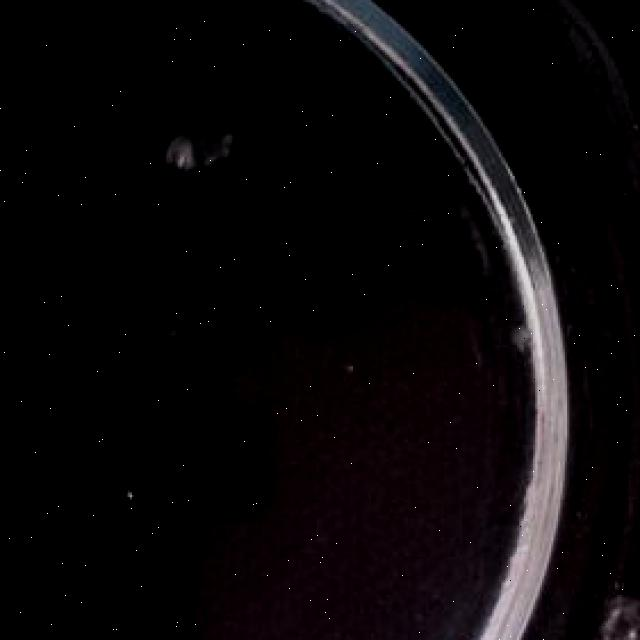Microplastic: (166, 83, 253, 205)
